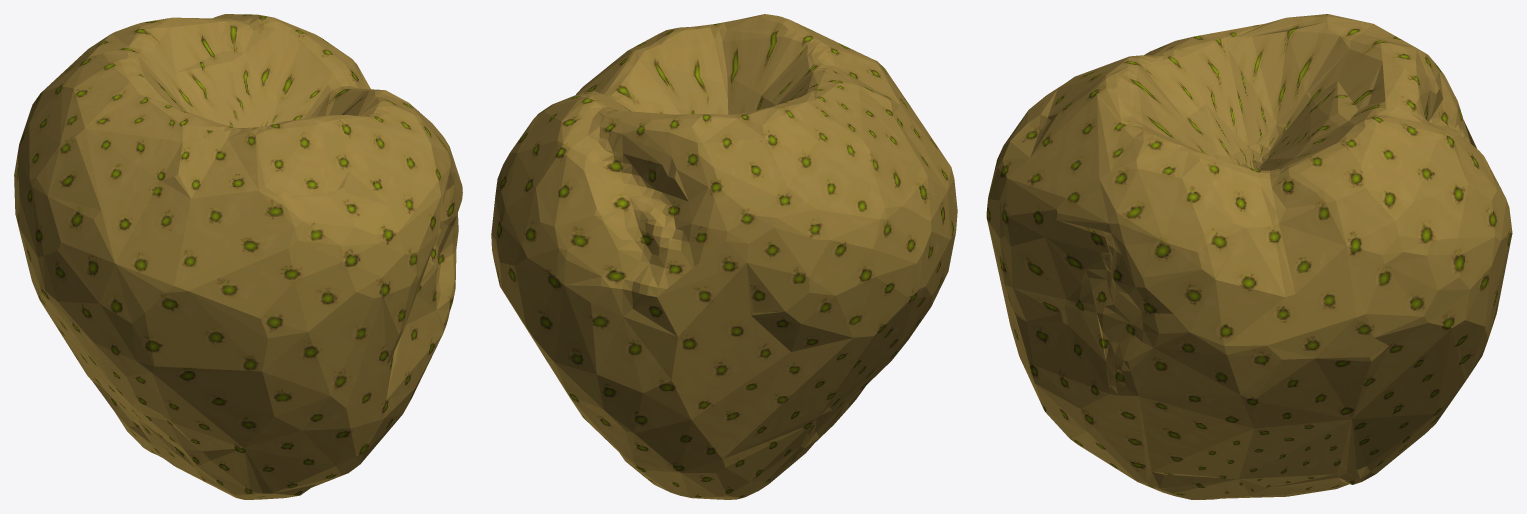
3 views of the same model, side by side, from view 1: azimuth 30°, elevation 25°; view 2: azimuth 150°, elevation 25°; view 3: azimuth 270°, elevation 25° (orthographic). The views are drawn at different scales.
Parts seen in each view (by area): view 1: _003_Meshed; view 2: _003_Meshed; view 3: _003_Meshed.
Boxes of the visible parts, x1=… form: _003_Meshed: x1=14, y1=14, x2=462, y2=499; _003_Meshed: x1=491, y1=14, x2=957, y2=499; _003_Meshed: x1=986, y1=14, x2=1512, y2=499.
Bounding box in the file's own units: 0.0971 × 0.1082 × 0.0983.
1 material, 1 textured.
